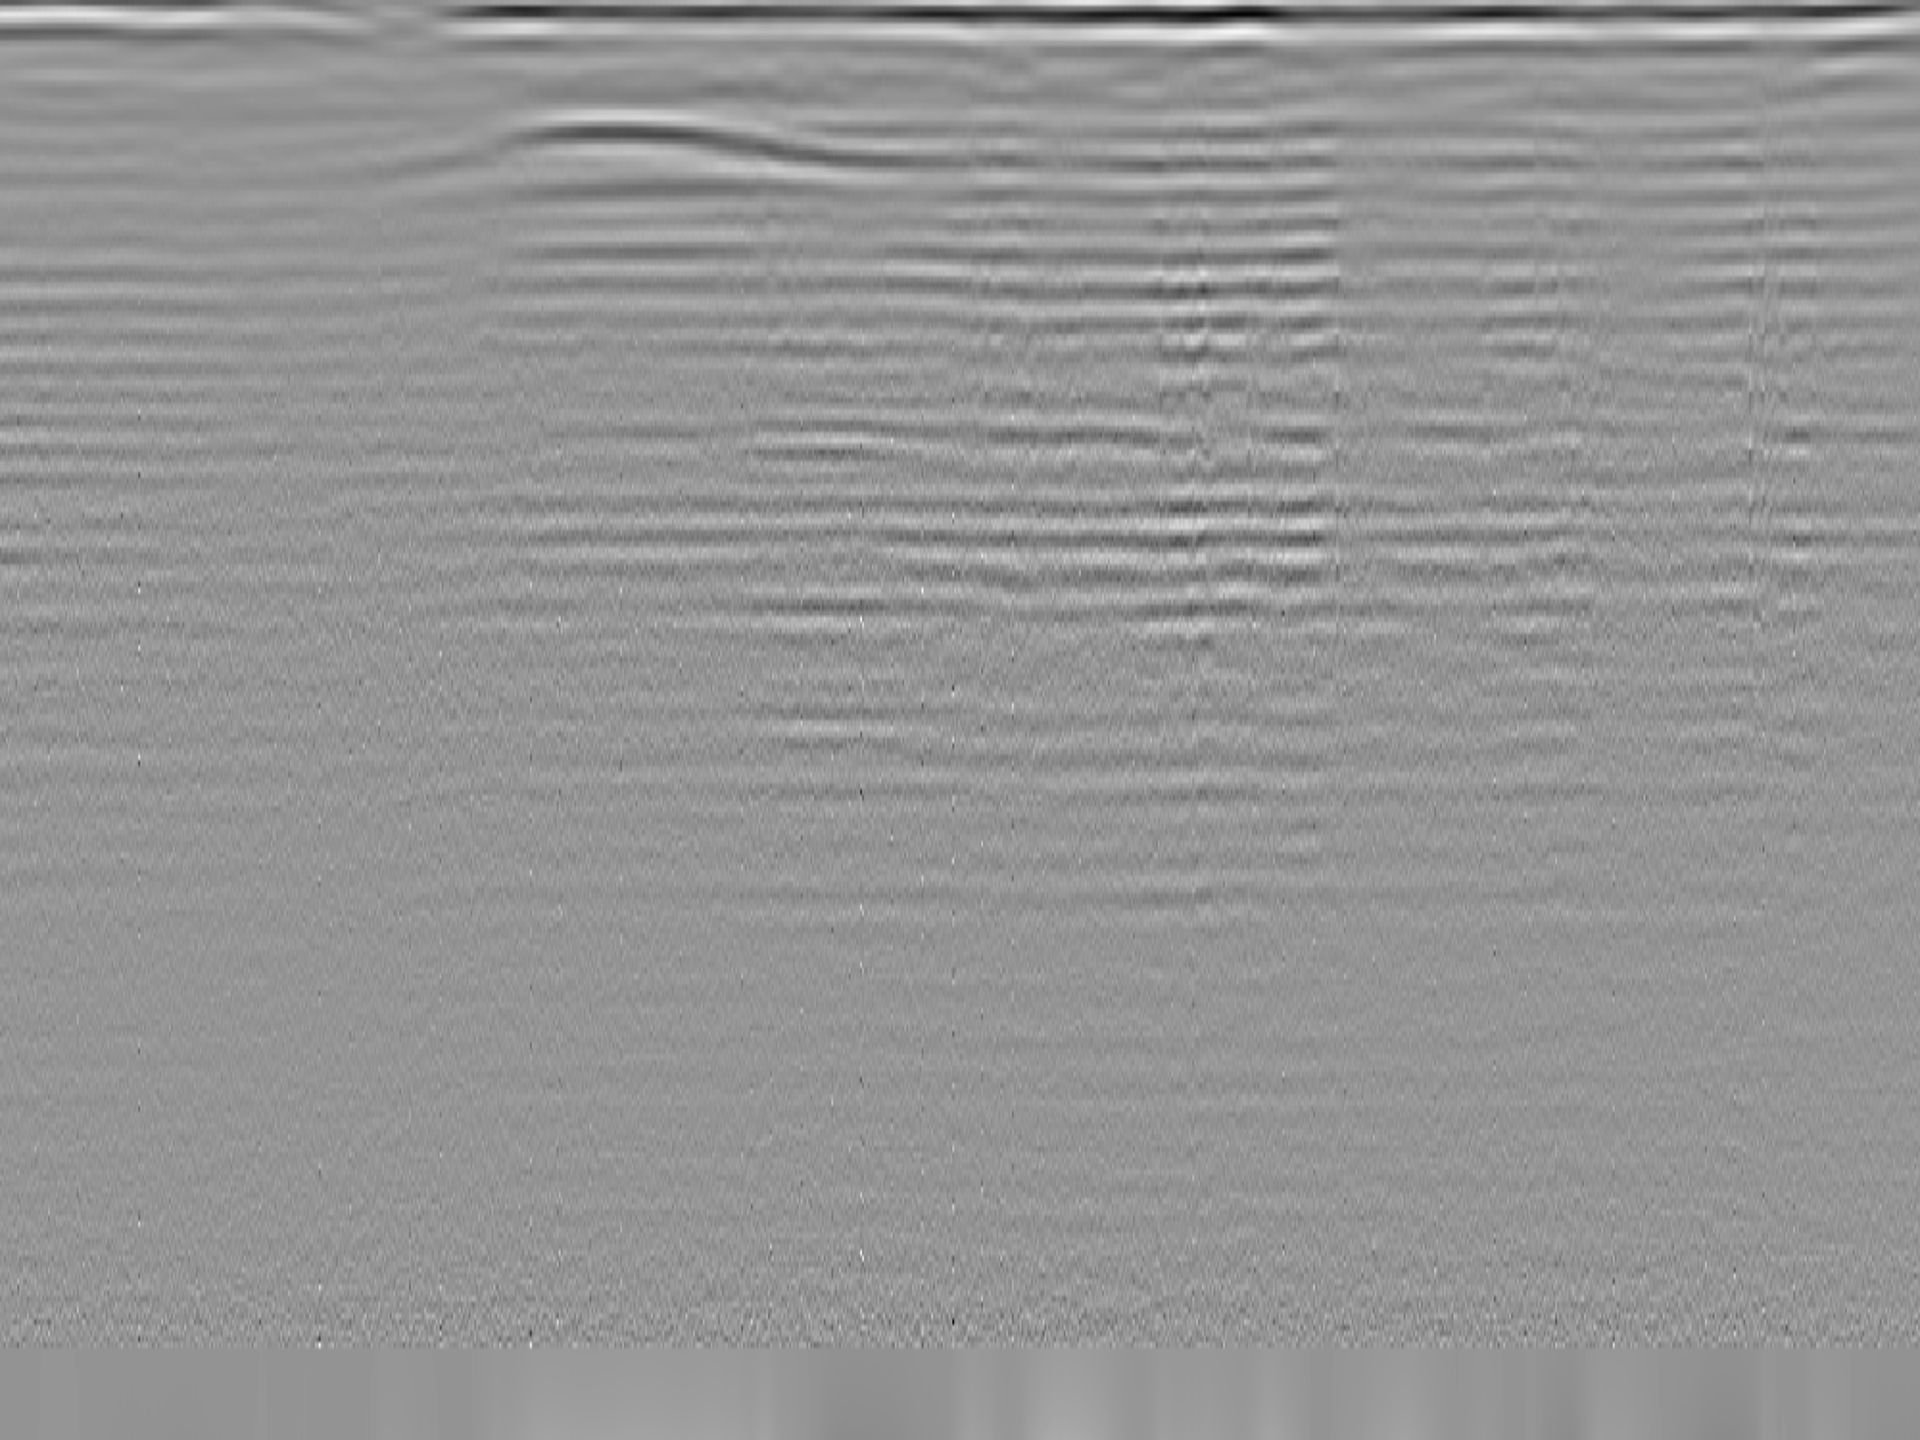Tunnel: (404, 112, 948, 175)
